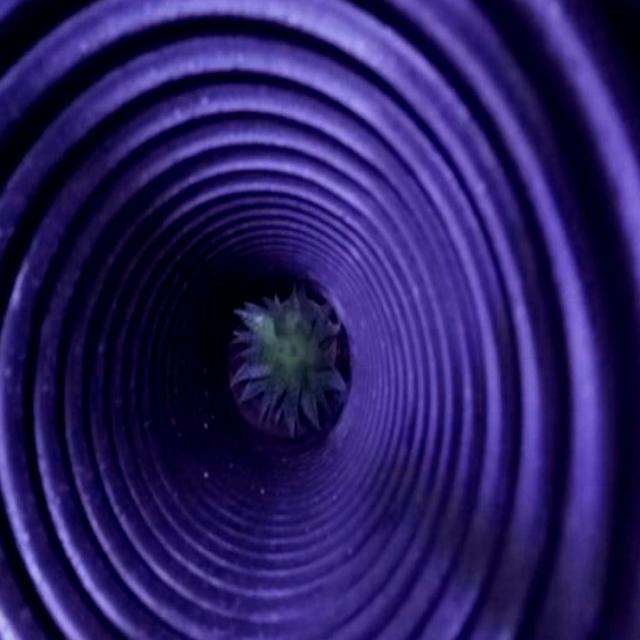leaf: (233, 286, 346, 434)
